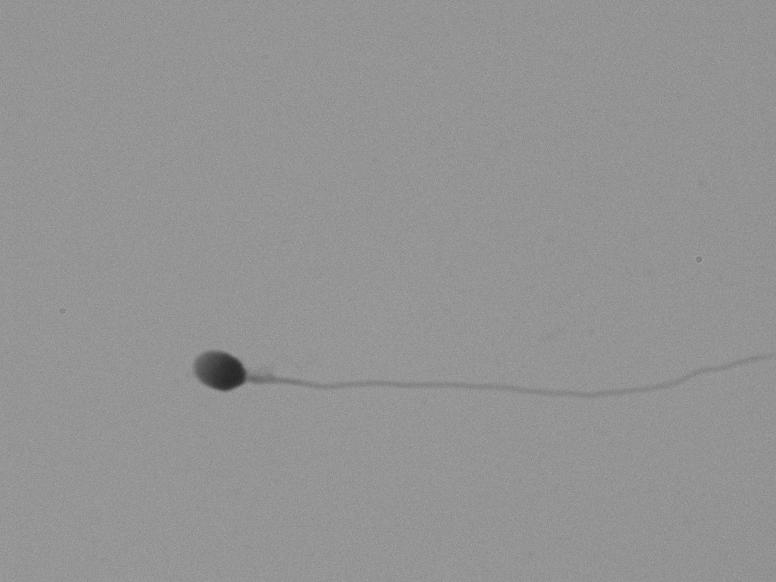Normal: (160, 248, 752, 471)
